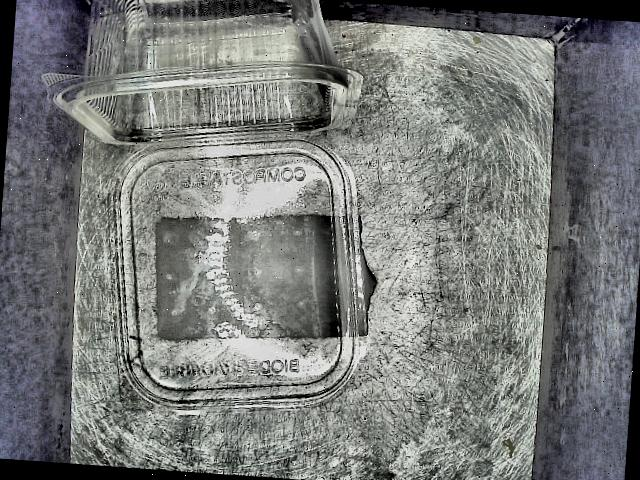Plastic: (34, 0, 397, 427)
